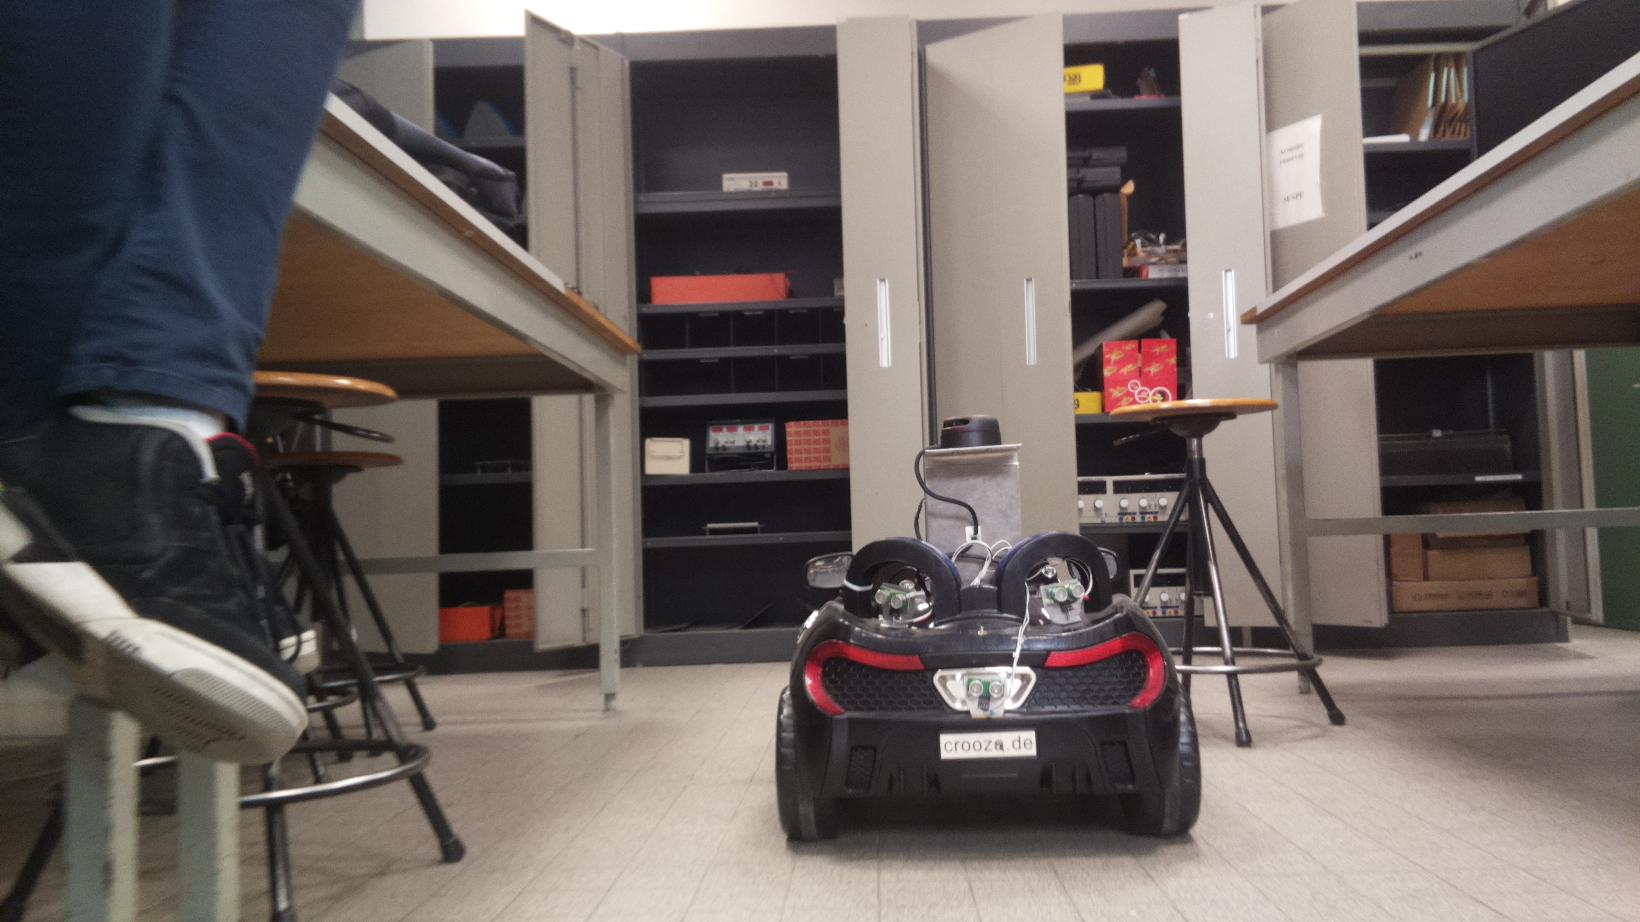big: (775, 530, 1205, 854)
